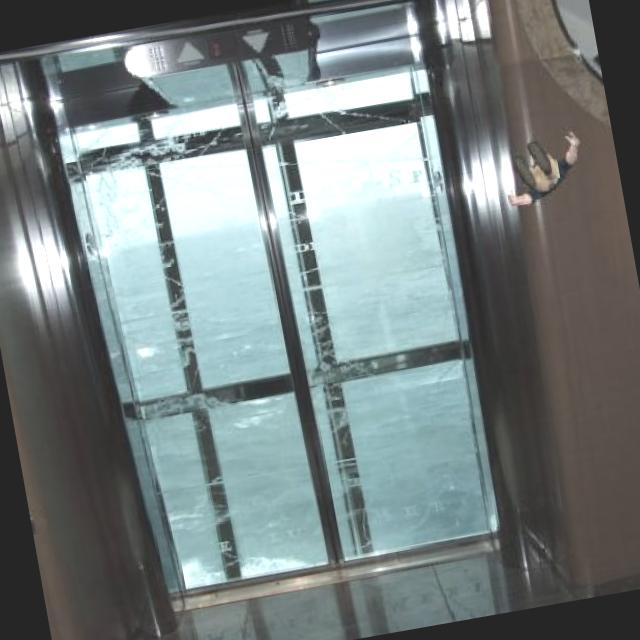Person: (496, 123, 593, 214)
